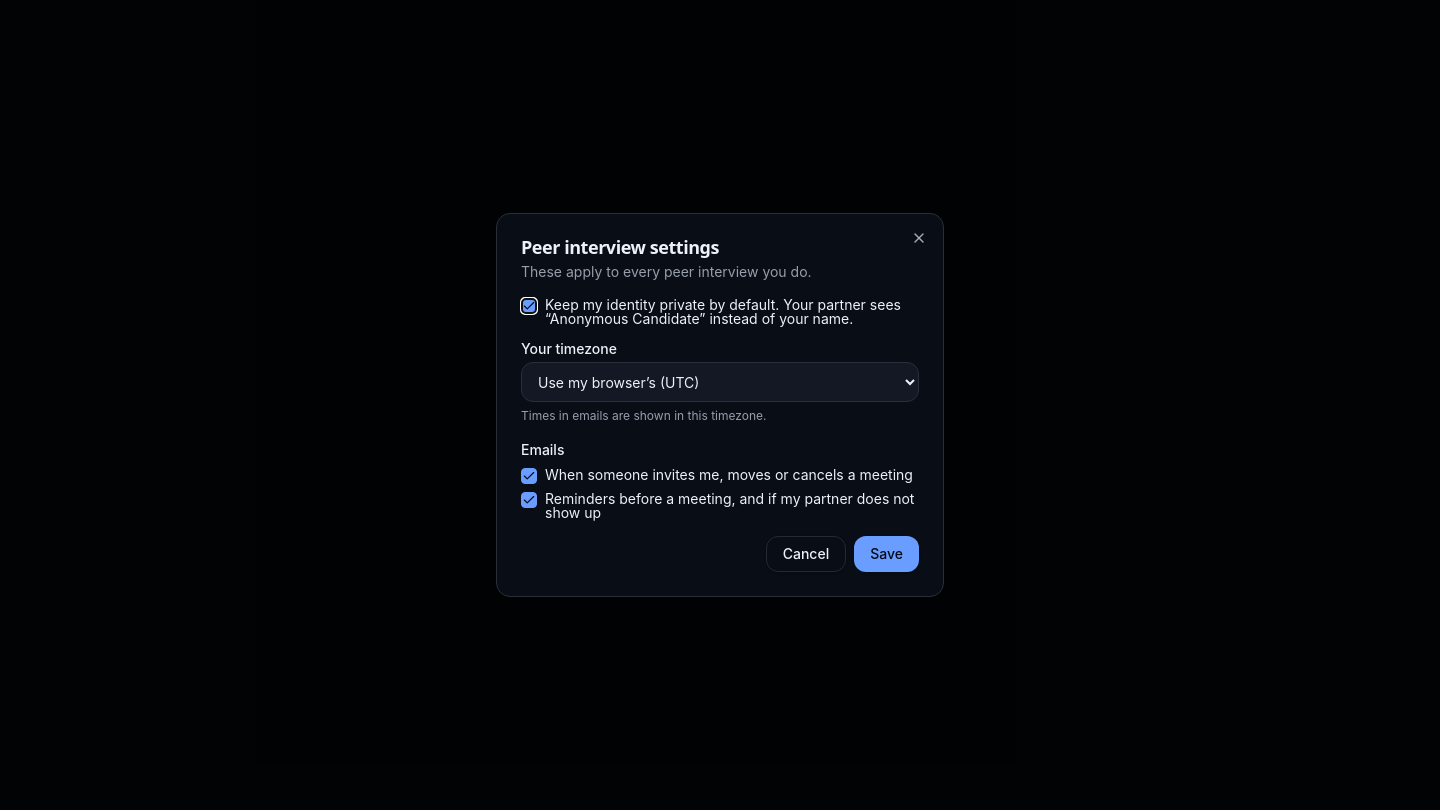
Test case: PeerSettingsDialog › will not save until it has loaded, and says when it cannot load or save
Later steps or results of the test are not shown.
Click the button "Save" at (887, 554), box [854,536,919,572]
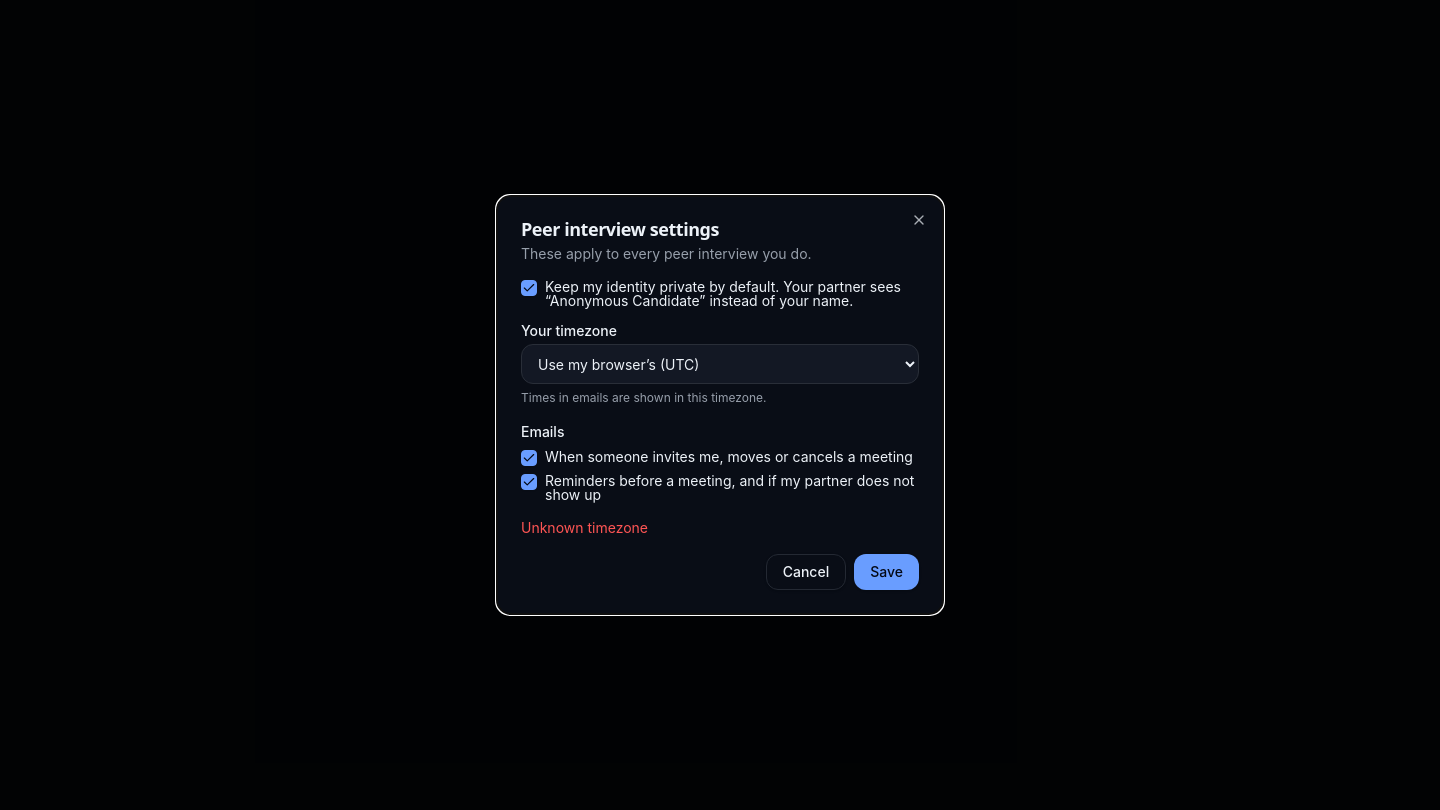
Now the message reads "Unknown timezone", box [521,519,648,536]
